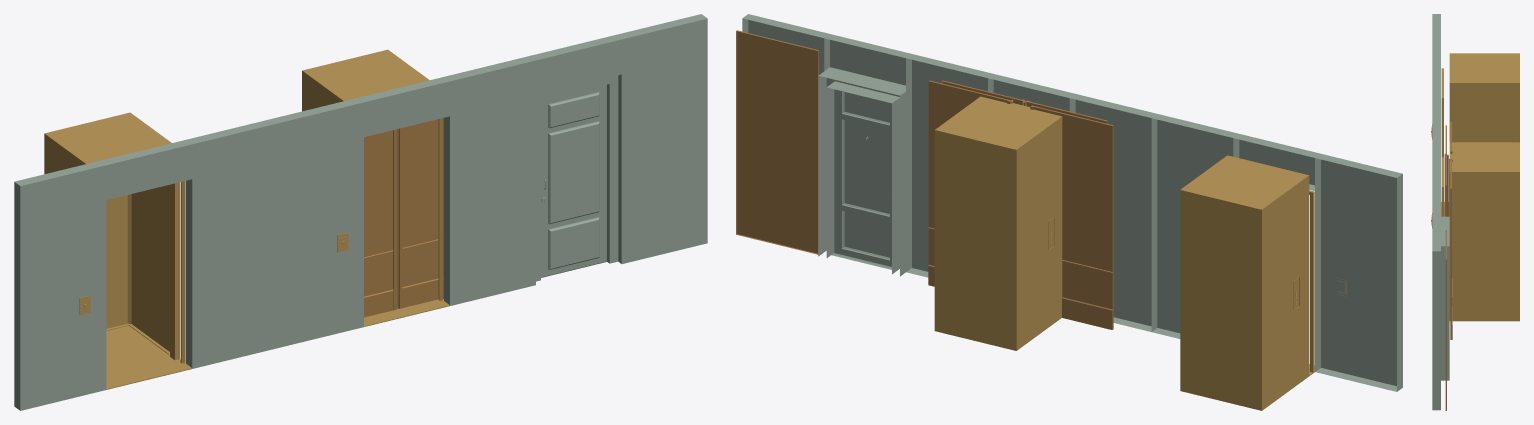
File: entrance_test_03_uni.fbx
3 views of the same model, side by side, from view 1: azimuth 30°, elevation 25°; view 2: azimuth 150°, elevation 25°; view 3: azimuth 270°, elevation 25° (orthographic). The views are drawn at different scales.
Visible parts, largest first — view 1: pCube539; view 2: pCube539; view 3: pCube539.
Boxes of the visible parts, x1,y1,x2,y2 form: pCube539: (14, 14, 707, 410); pCube539: (736, 14, 1402, 410); pCube539: (1431, 14, 1519, 410).
Bounding box in the file's own units: 803 × 250 × 127.
